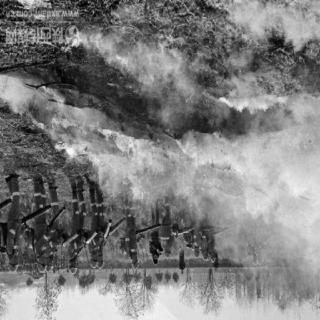Fire: (152, 4, 312, 164), (50, 110, 208, 210)
